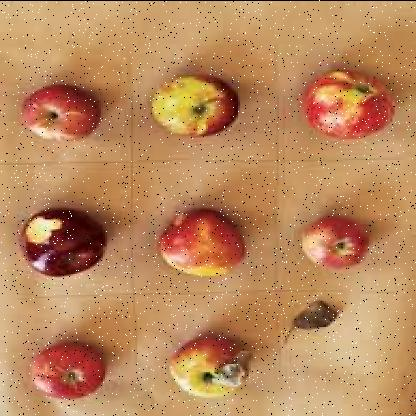apple: (304, 72, 392, 140), (162, 214, 242, 276), (300, 216, 362, 270)
damaged_apple: (146, 71, 238, 141), (21, 204, 103, 280), (169, 338, 251, 402), (19, 82, 101, 144), (30, 342, 103, 402)
